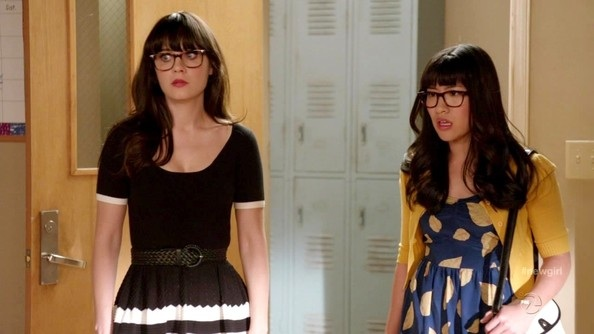person: (87, 11, 270, 334), (376, 44, 570, 334)
